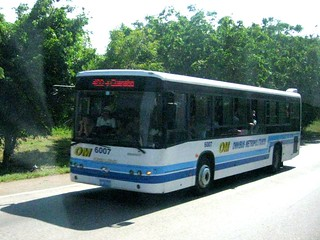bus: (69, 69, 301, 196)
